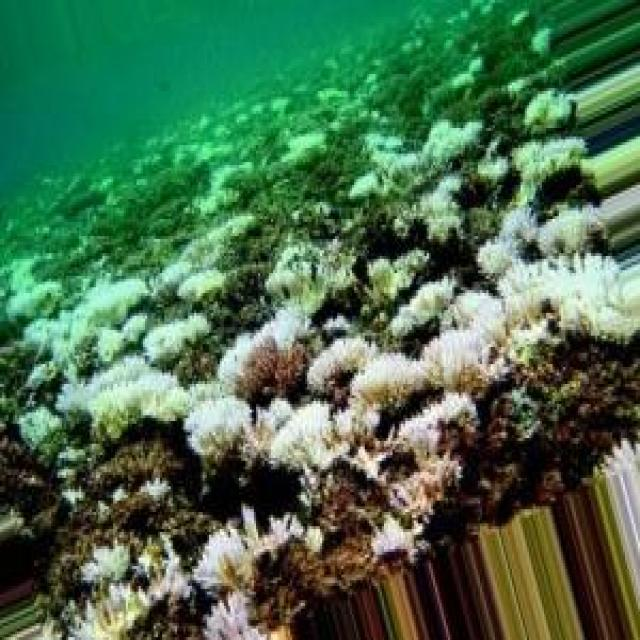bleached coral: (87, 358, 196, 447), (508, 259, 640, 330), (371, 174, 482, 245), (341, 356, 442, 430), (256, 404, 350, 475), (186, 398, 252, 481), (145, 313, 220, 384), (30, 299, 128, 344)
